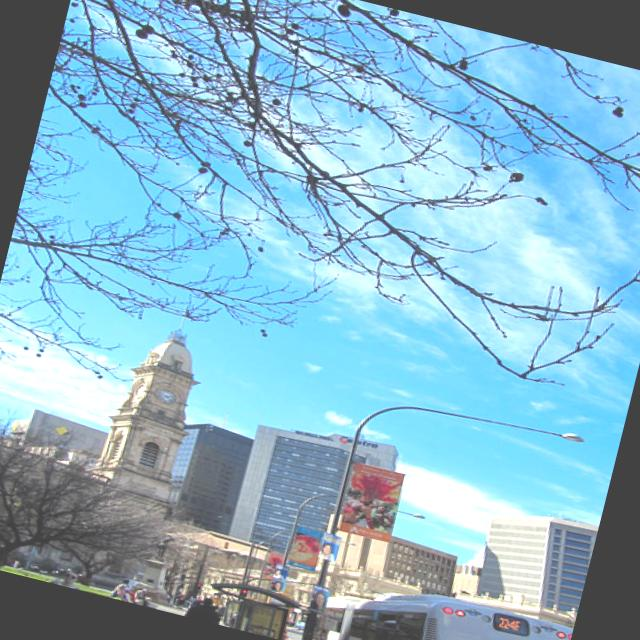Vehicle: (318, 567, 573, 640)
